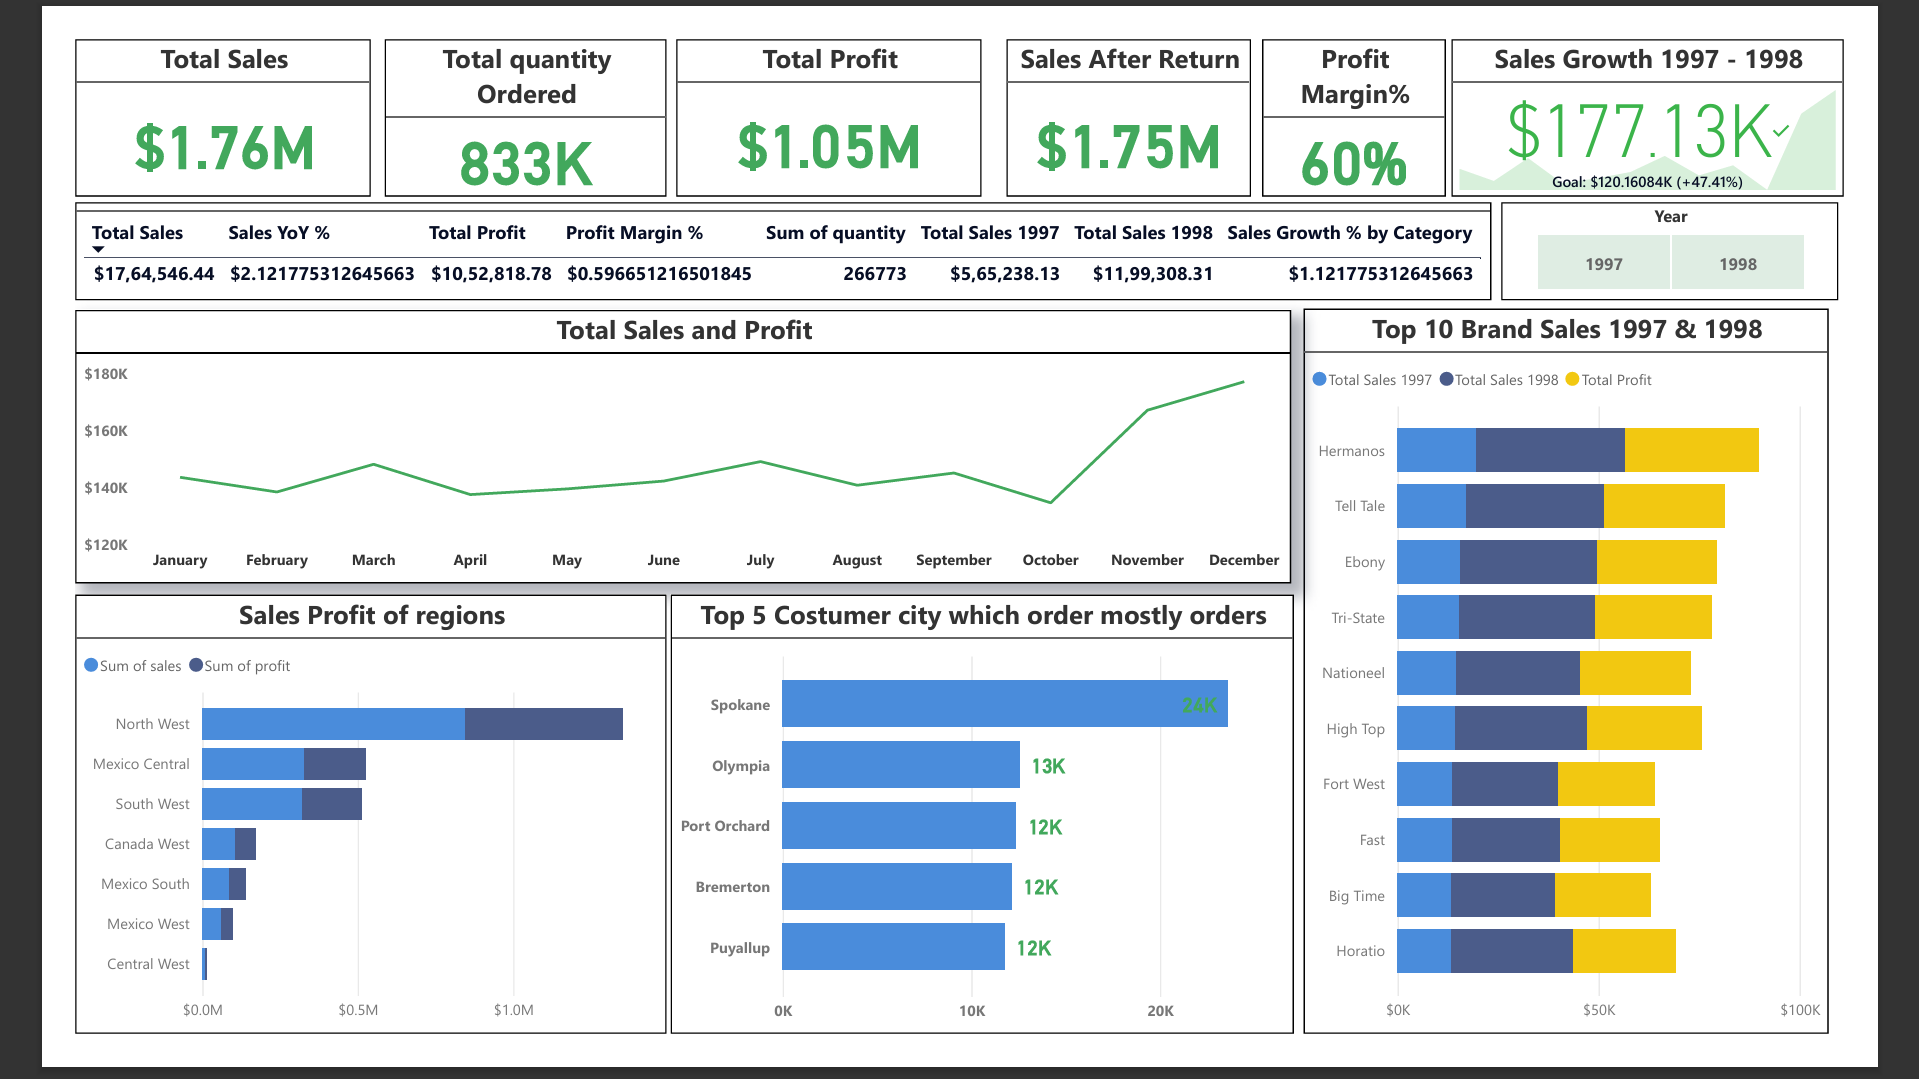

The page's visual inventory and layout, read from the dashboard file:
{"tool":"powerbi","page":{"name":"Sales Analysis","canvas":[1280,720],"ordinal":0},"visuals":[{"type":"card","title":"Total Sales","fields":{"Values":["Transactions_1997_Detailed.Total Sales"]},"box":[0,0,214.1,113.9],"z":0},{"type":"card","title":"Profit Margin%","fields":{"Values":["Transactions_1997_Detailed.Profit Margin %"]},"box":[859,0,133.1,113.9],"z":1000},{"type":"card","title":"Total Profit","fields":{"Values":["Transactions_1997_Detailed.Total Profit"]},"box":[435,0,220.9,113.9],"z":2000},{"type":"card","title":"Total quantity Ordered","fields":{"Values":["transaction_all.Total Quantity"]},"box":[223.7,0,204.5,113.9],"z":3000},{"type":"slicer","title":"Year","fields":{"Values":["market calender.Year"]},"box":[1031.9,118,244.3,71.4],"z":4000},{"type":"card","title":"Sales After Return","fields":{"Values":["Returns_Detailed.Net Sales (After Returns)"]},"box":[673.8,0,177,113.9],"z":5000},{"type":"kpi","title":"Sales Growth 1997 - 1998","fields":{"Indicator":["Transactions_1997_Detailed.Total Sales"],"Goal":["transaction_all.Total Sales 1998"],"TrendLine":["market calender.Month Name"]},"box":[996.2,0,284,113.9],"z":6000},{"type":"barChart","title":"Top 10 Brand Sales 1997 & 1998","fields":{"Category":["product details.product_brand"],"Y":["transaction_all.Total Sales 1997","transaction_all.Total Sales 1998","Transactions_1997_Detailed.Total Profit"]},"box":[889.2,194.9,380.1,525.6],"z":7000},{"type":"tableEx","fields":{"Values":["Transactions_1997_Detailed.Total Sales","Returns_Detailed.Sales YoY %","Transactions_1997_Detailed.Total Profit","Transactions_1997_Detailed.Profit Margin %","Sum(Transactions_1997_Detailed.quantity)","transaction_all.Total Sales 1997","transaction_all.Total Sales 1998","Returns_Detailed.Sales Growth % by Category"]},"box":[0,118,1025,71.4],"z":8000},{"type":"lineChart","title":"Total Sales and Profit","fields":{"Category":["market calender.Month Name"],"Y":["Transactions_1997_Detailed.Total Sales"]},"box":[0,196.2,879.6,197.6],"z":9000},{"type":"barChart","title":"Sales Profit of regions","fields":{"Category":["regions.sales_region"],"Y":["Sum(transaction_all.sales)","Sum(transaction_all.profit)"]},"box":[0,402.1,428.1,318.4],"z":10000},{"type":"barChart","title":"Top 5 Costumer city which order mostly orders","fields":{"Category":["costumer details.customer_city"],"Y":["Sum(Transactions_1997_Detailed.quantity)"]},"box":[430.9,402.1,451.5,318.4],"z":11000}]}

Visuals, with their boxes in screenshot pixels (x1, y1, x2, y2), scaled from the page's 1280x720 canvas onto the 1919x1079 screenshot:
"Total Sales" card: BBox(0, 0, 321, 171)
"Profit Margin%" card: BBox(1288, 0, 1487, 171)
"Total Profit" card: BBox(652, 0, 983, 171)
"Total quantity Ordered" card: BBox(335, 0, 642, 171)
"Year" slicer: BBox(1547, 177, 1913, 284)
"Sales After Return" card: BBox(1010, 0, 1276, 171)
"Sales Growth 1997 - 1998" kpi: BBox(1494, 0, 1918, 171)
"Top 10 Brand Sales 1997 & 1998" barChart: BBox(1333, 292, 1903, 1078)
tableEx - Transactions_1997_Detailed.Total Sales x Returns_Detailed.Sales YoY %: BBox(0, 177, 1537, 284)
"Total Sales and Profit" lineChart: BBox(0, 294, 1319, 590)
"Sales Profit of regions" barChart: BBox(0, 603, 642, 1078)
"Top 5 Costumer city which order mostly orders" barChart: BBox(646, 603, 1323, 1078)
